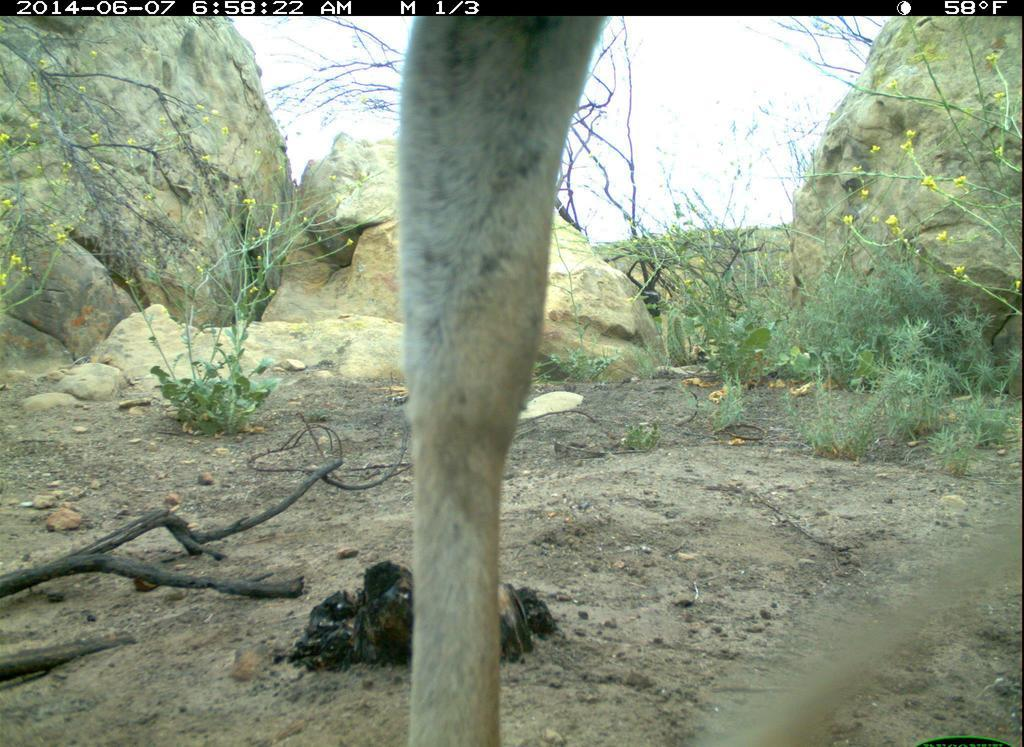deer: (381, 7, 667, 744)
